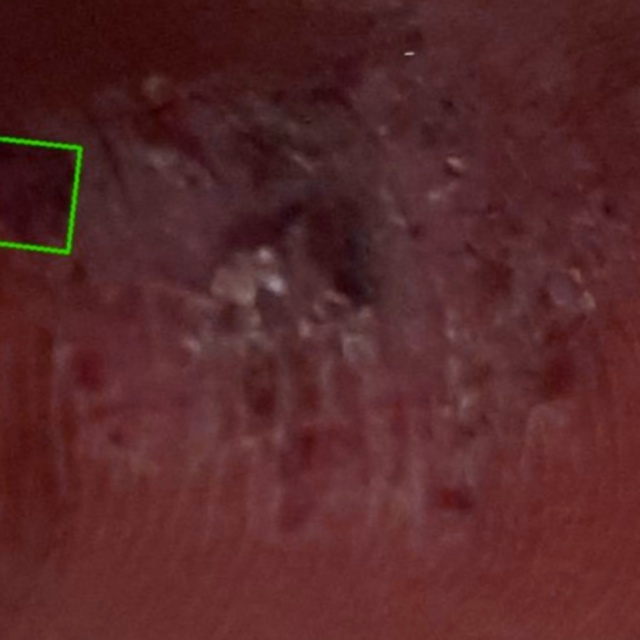Contact Dermatitis: (0, 138, 80, 251)
